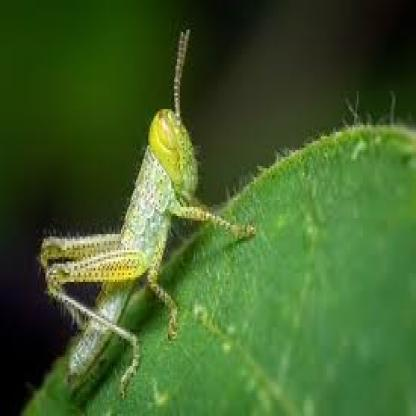grasshopper: (41, 33, 250, 386)
